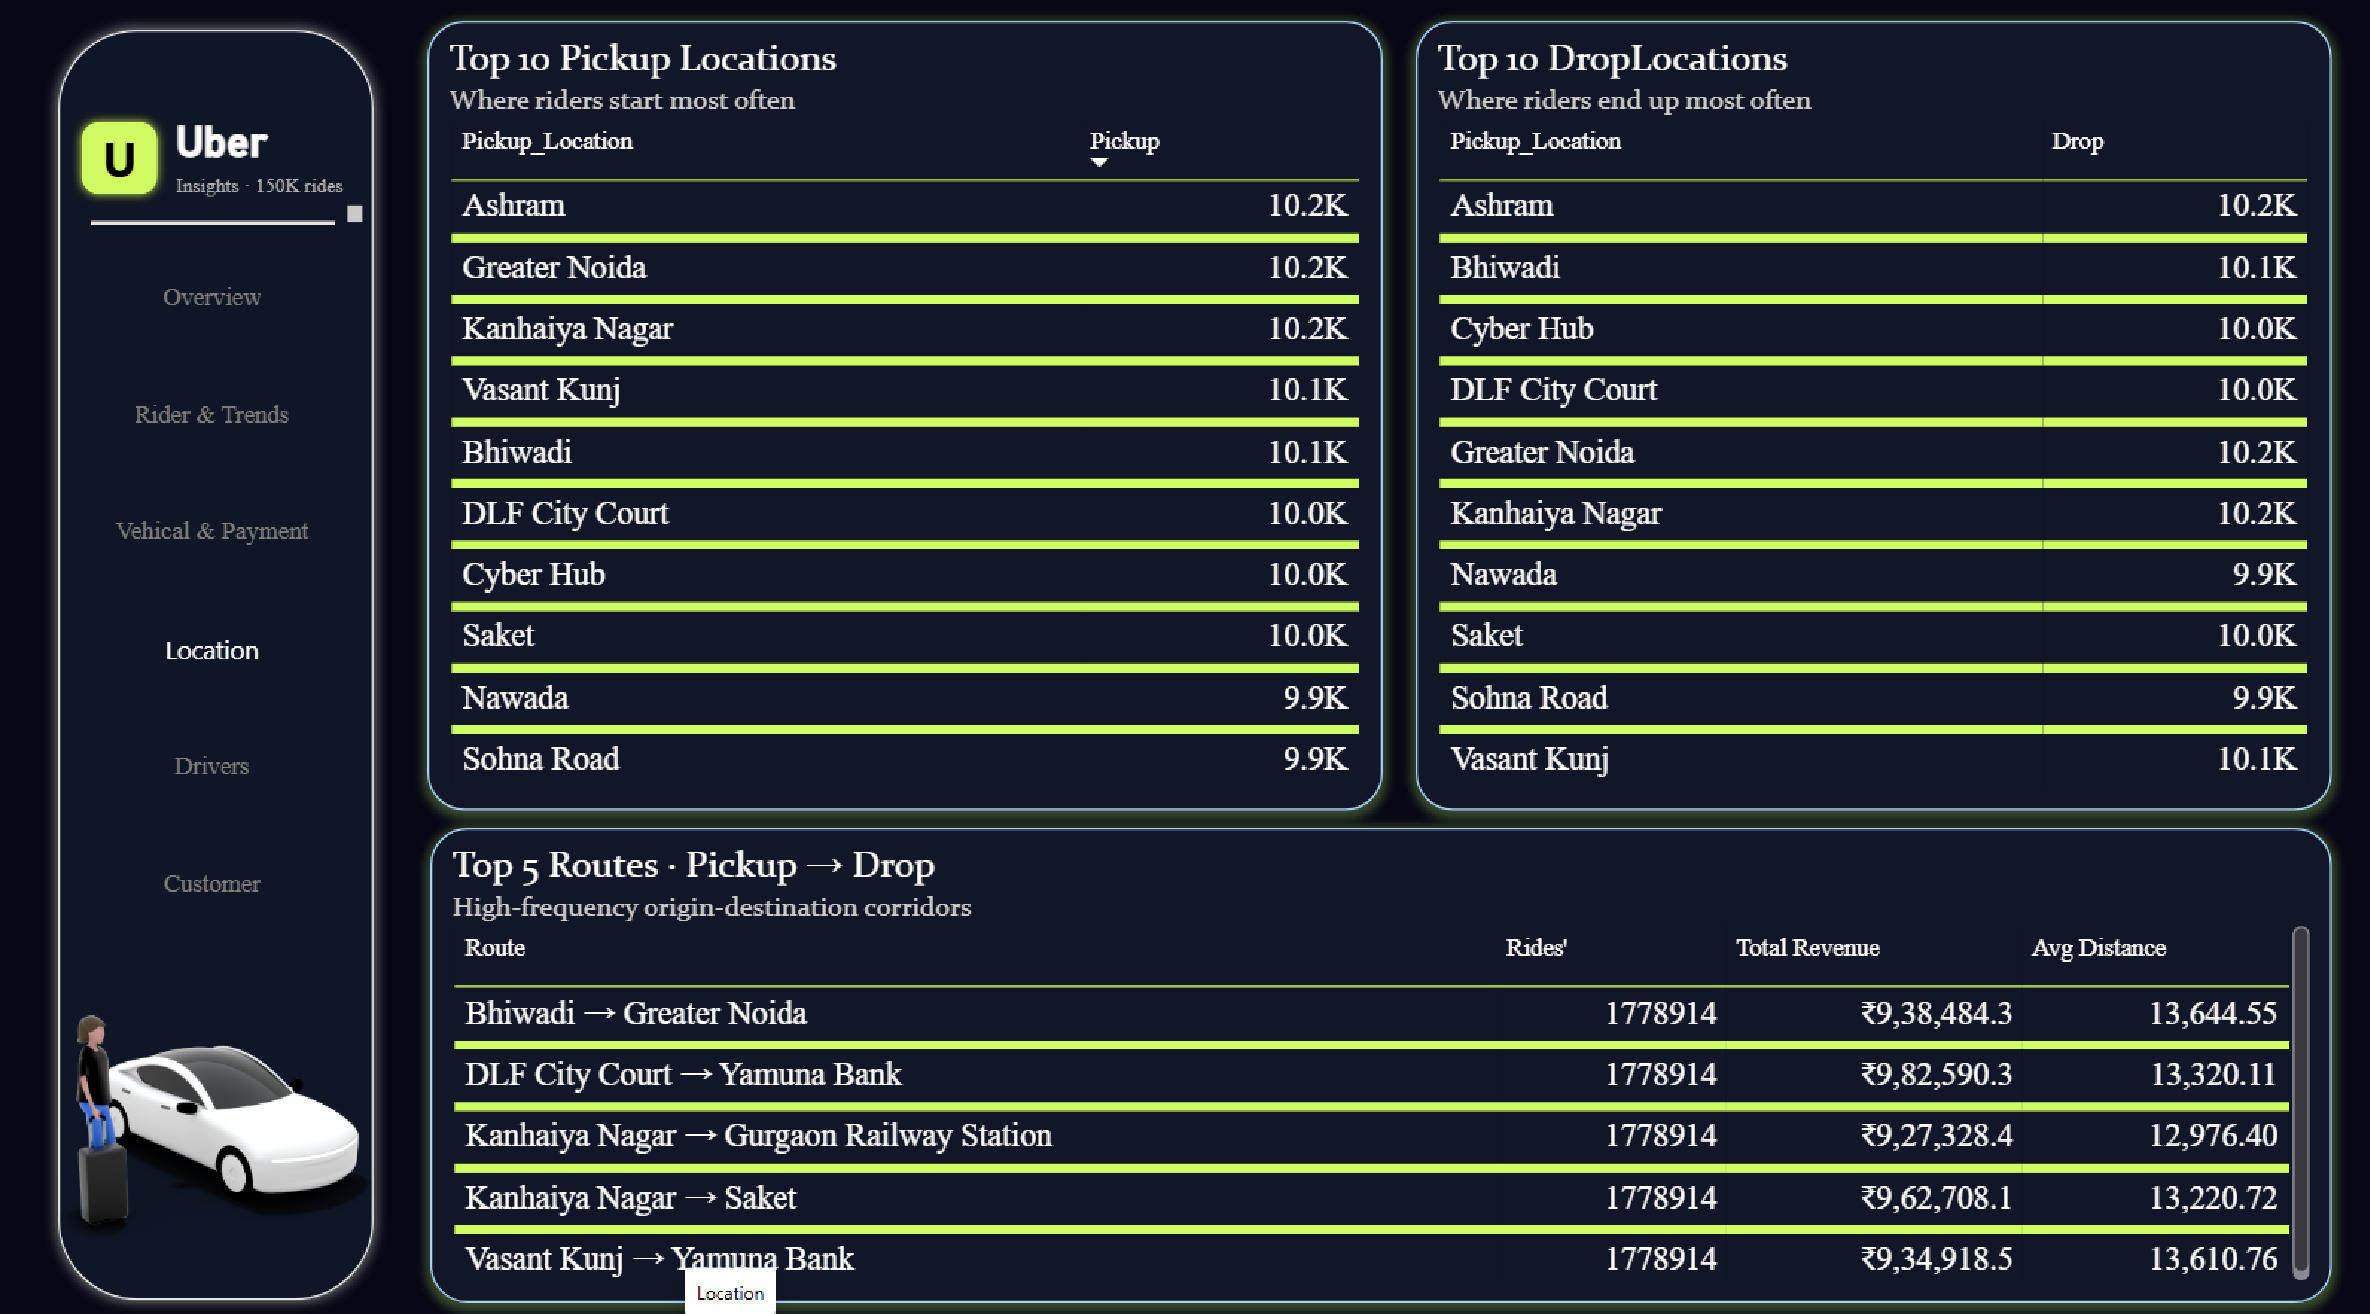

Layout of this report page (visuals, bound fields, positions):
{"tool":"powerbi","page":{"name":"Location","canvas":[1280,720],"ordinal":3},"visuals":[{"type":"pageNavigator","box":[37.3,173.6,130,371.8],"z":0},{"type":"shape","box":[25.7,11.5,185.3,697.8],"z":1000},{"type":"shape","box":[40.4,63,51.6,49.6],"z":2000},{"type":"textbox","title":"Uber","box":[92.2,66.5,110,61.2],"z":3000},{"type":"pageNavigator","box":[51.3,135.7,130.2,372.3],"z":4000},{"type":"shape","box":[51.3,112.4,131.2,20.4],"z":5000},{"type":"image","box":[13,498,218,202],"z":6000},{"type":"tableEx","title":"Top 10 Pickup Locations","fields":{"Values":["Booking_Transactions.Pickup_Location","Measure.Pickup"]},"box":[231.5,14.3,513.1,423.7],"z":7000},{"type":"tableEx","title":"Top 10 DropLocations","fields":{"Values":["Booking_Transactions.Pickup_Location","Measure.Drop"]},"box":[762.5,14.3,491.6,423.7],"z":8000},{"type":"tableEx","title":"Top 5 Routes · Pickup → Drop","fields":{"Values":["Booking_Transactions.Route","Customers.Rides'","Measure.Total Revenue (Cr)","Measure.Avg Distance"]},"box":[233.3,447.8,1020.8,254.7],"z":10000}]}

Visuals, with their boxes on the page's 1280x720 design canvas (x1, y1, x2, y2). These are canvas units, not pixel positions in the 2370x1314 screenshot, which may show the page scaled, cropped or inside an application window:
pageNavigator: x1=37 y1=174 x2=167 y2=545
shape: x1=26 y1=12 x2=211 y2=709
shape: x1=40 y1=63 x2=92 y2=113
"Uber" textbox: x1=92 y1=66 x2=202 y2=128
pageNavigator: x1=51 y1=136 x2=182 y2=508
shape: x1=51 y1=112 x2=182 y2=133
image: x1=13 y1=498 x2=231 y2=700
"Top 10 Pickup Locations" tableEx: x1=232 y1=14 x2=745 y2=438
"Top 10 DropLocations" tableEx: x1=762 y1=14 x2=1254 y2=438
"Top 5 Routes · Pickup → Drop" tableEx: x1=233 y1=448 x2=1254 y2=702
